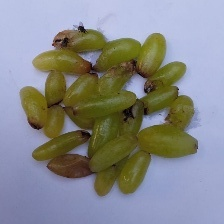grapes: (5, 49, 175, 200)
